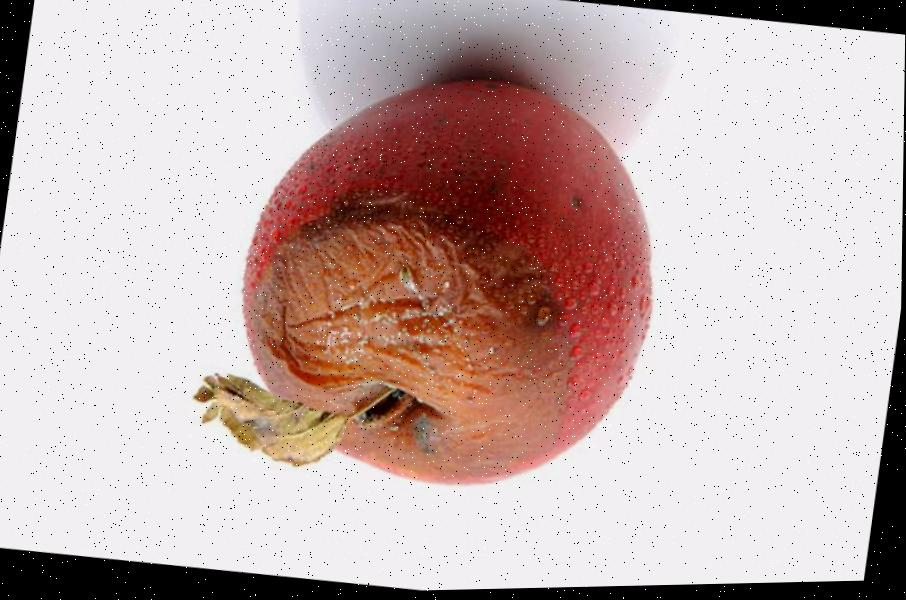ROT: (182, 33, 683, 520)
